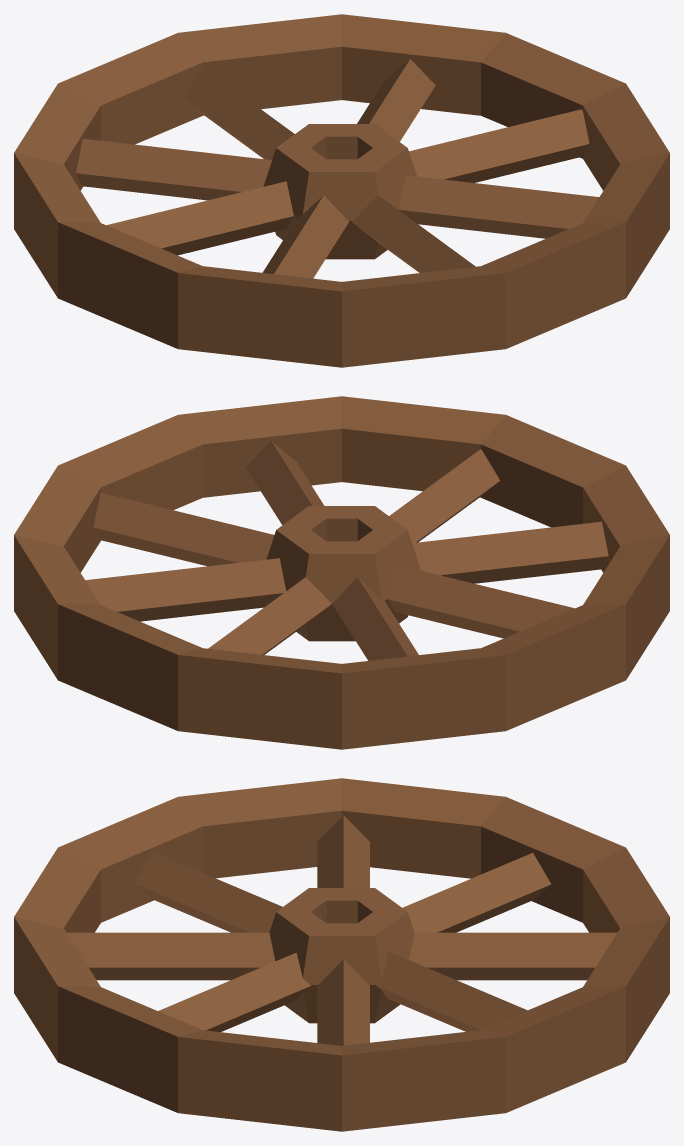
File: western-wheel-wood.glb
The picture shows the model from 3 angles, top to bottom: view 1: azimuth 30°, elevation 25°; view 2: azimuth 150°, elevation 25°; view 3: azimuth 270°, elevation 25°; orthographic projection.
Visible parts, largest first — view 1: wheel_wood; view 2: wheel_wood; view 3: wheel_wood.
Part boxes in pixels (x1,y1,x2,y2): wheel_wood: [14, 14, 669, 367]; wheel_wood: [14, 396, 669, 749]; wheel_wood: [14, 778, 669, 1131].
Size of the model in its own units: 1.18 by 0.1729 by 1.18.
